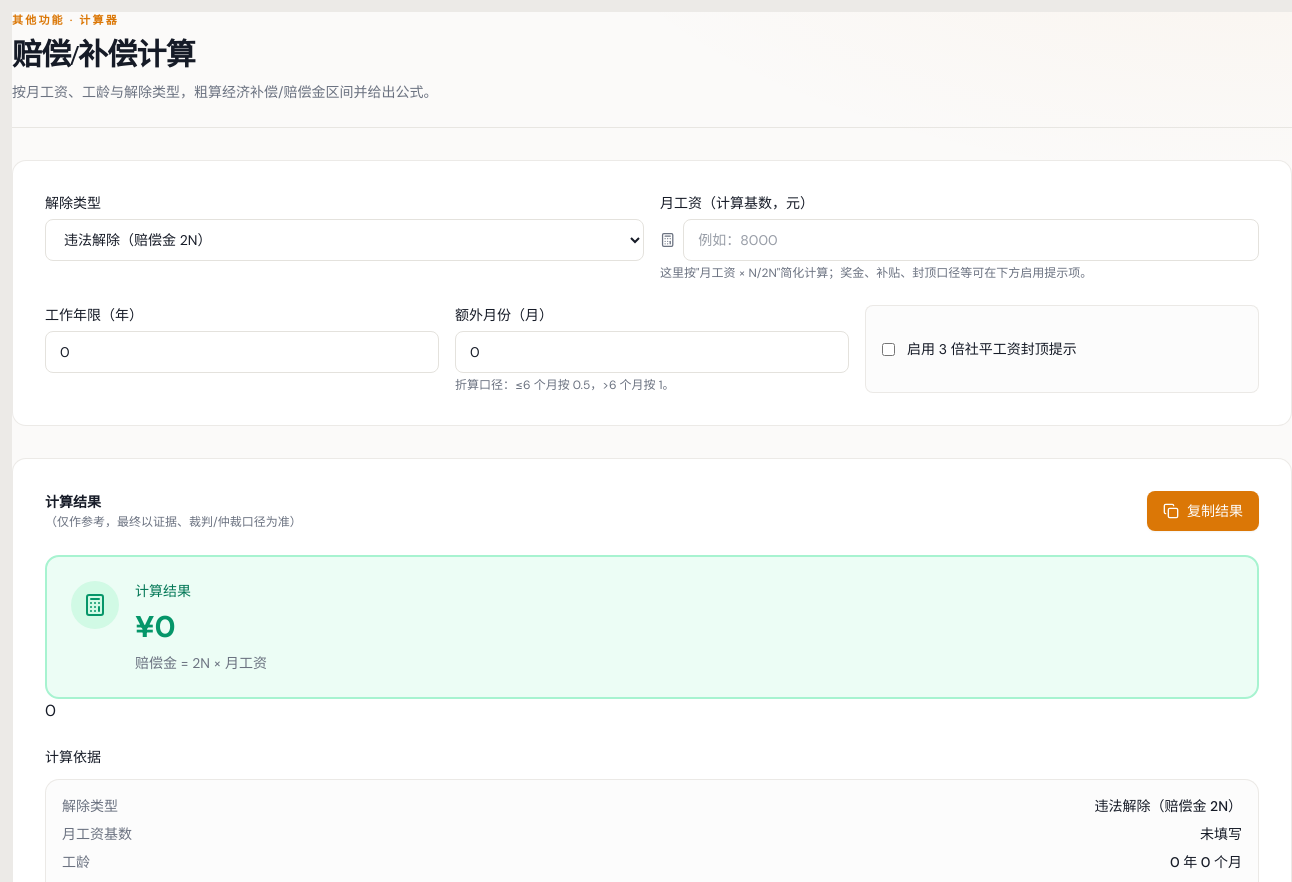
CompensationCalculator › calculates N correctly with months
The width and height of the screenshot is (1292, 882).
Type "8000" into the field with placeholder "例如：8000" at (971, 240), box [683,219,1259,261]
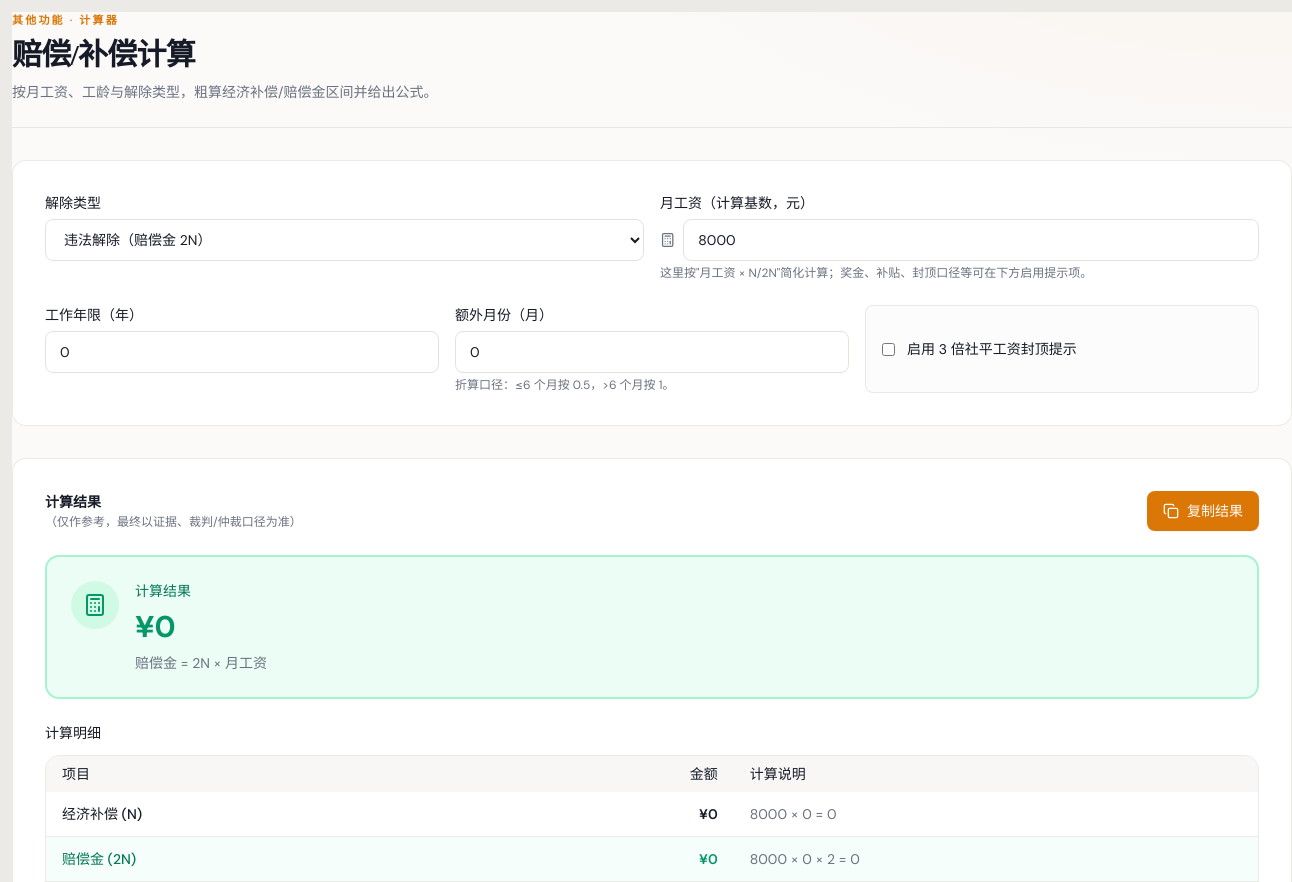
Replace the text in the field below "工作年限（年）" with "3" at (242, 352), box [45,331,439,373]
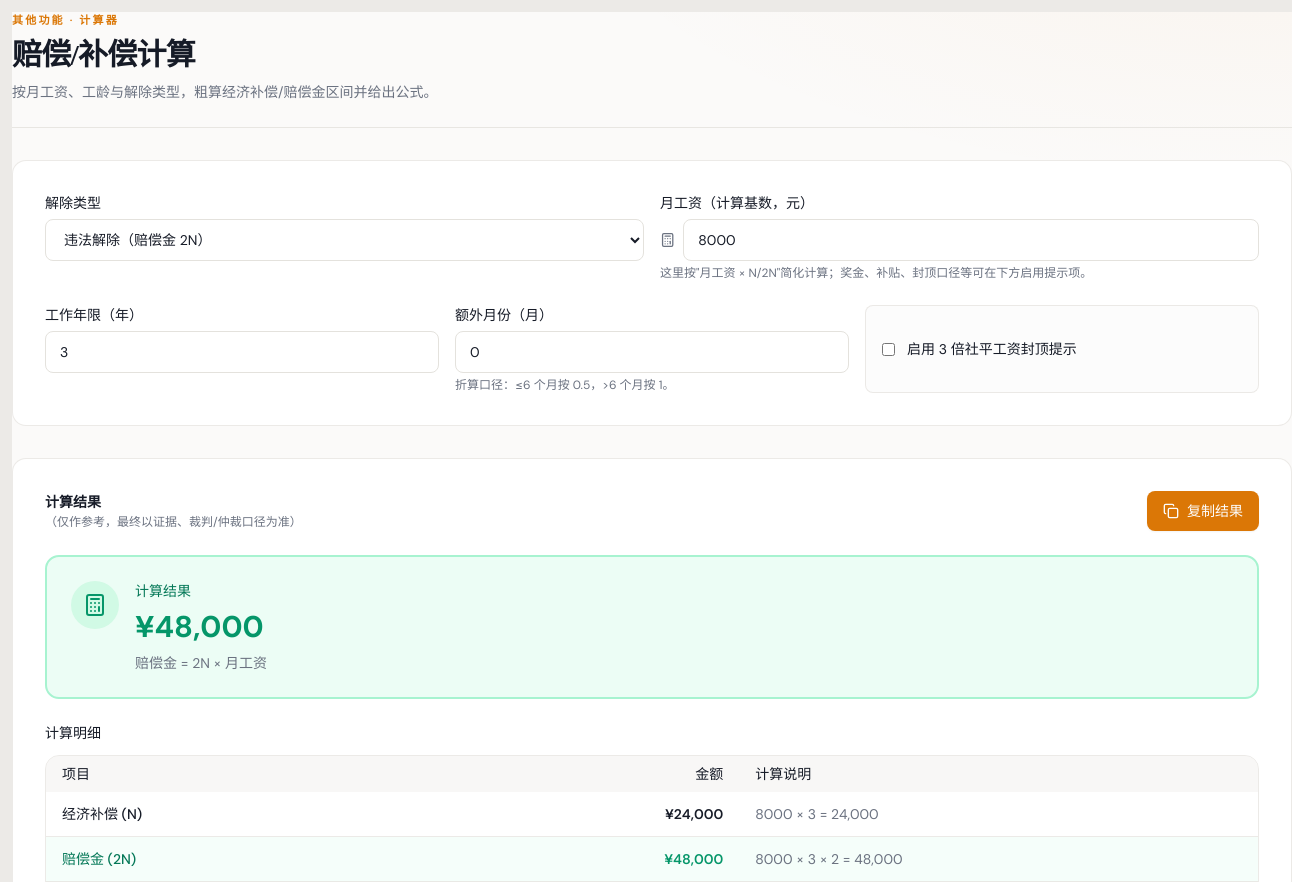
Replace the text in the field below "额外月份（月）" with "3" at (652, 352), box [455,331,849,373]
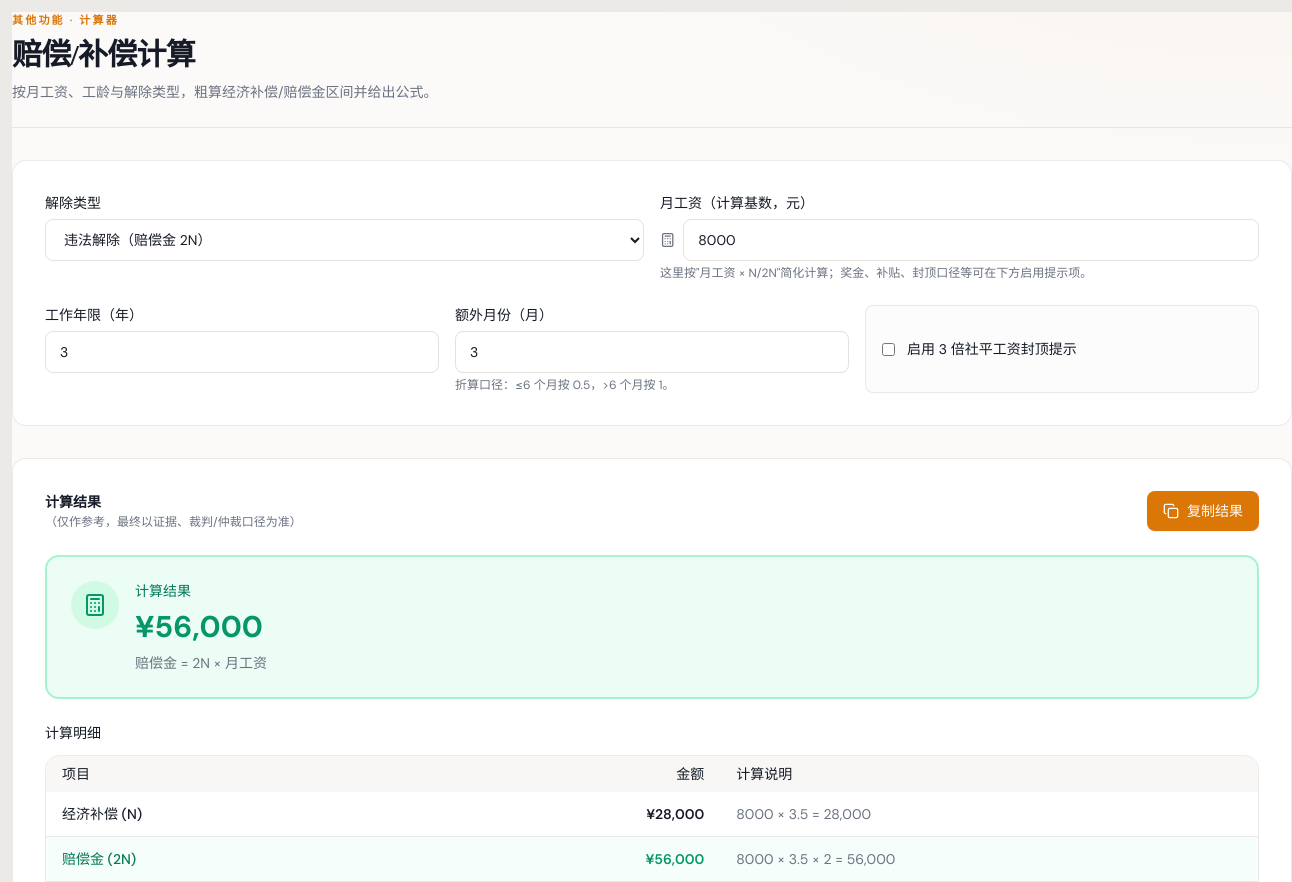
Check: the text "¥28,000" is shown, box [464,792,720,837]
